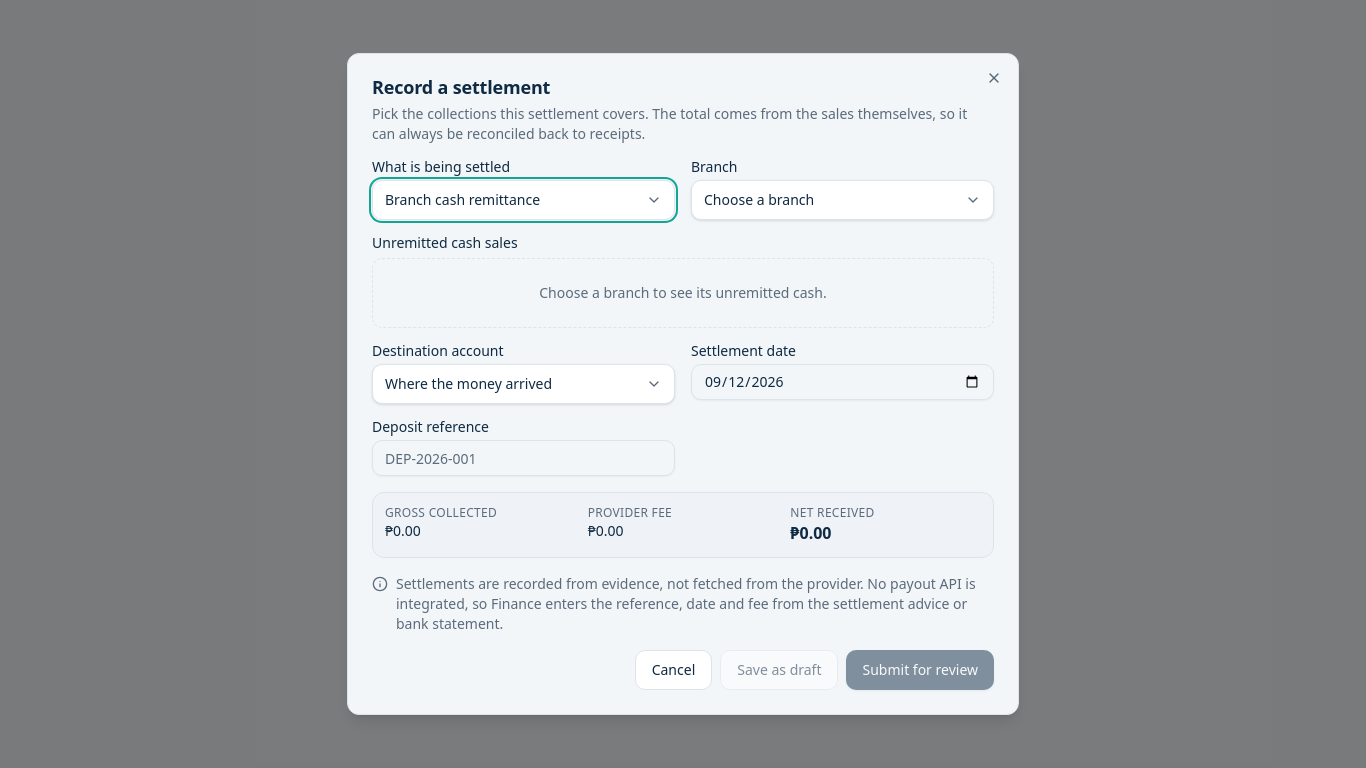
it: what the Branch control says in provider mode › shows nothing, and no way to select it, until a branch is chosen
The image size is (1366, 768).
Press ArrowDown in the dropdown named "What is being settled", box [372,180,675,220]
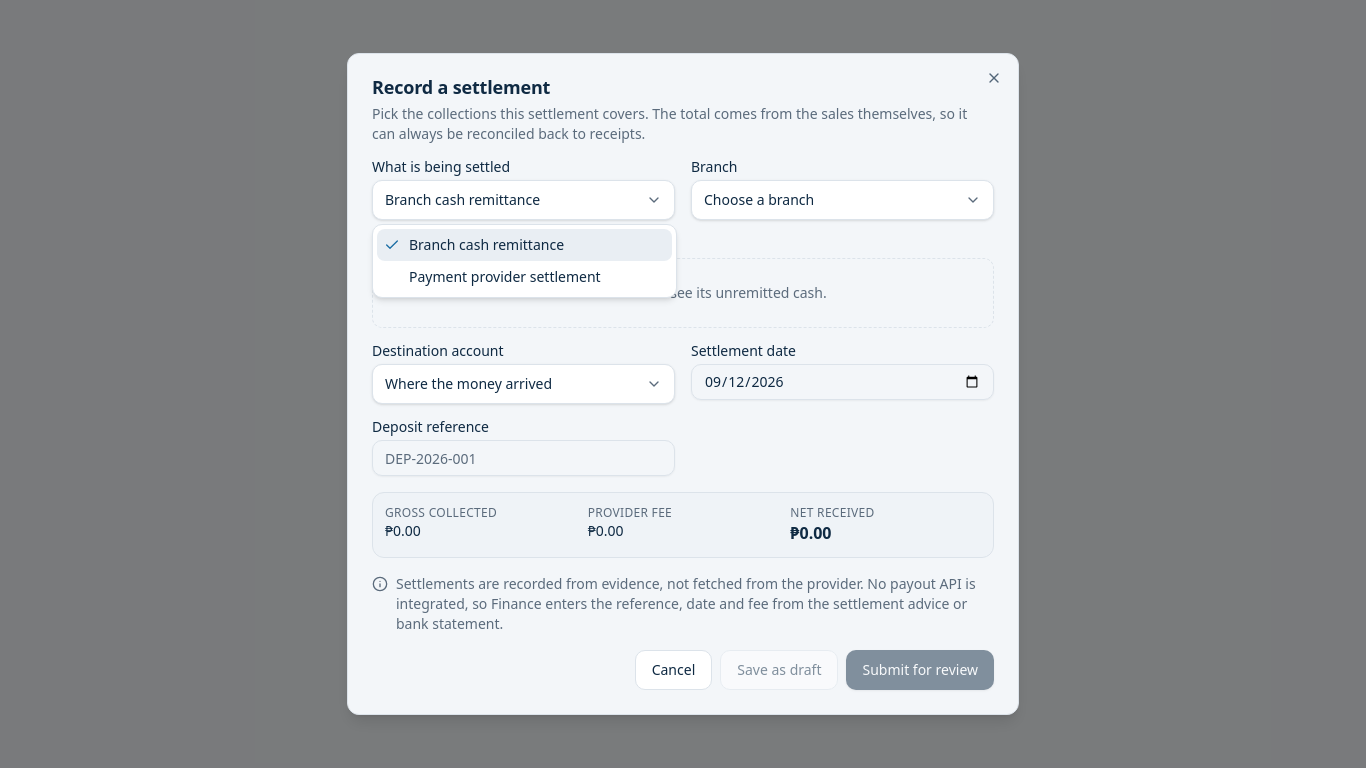
Click the option "Payment provider settlement". click: coordinates (505, 276)
box: [409,267,601,286]
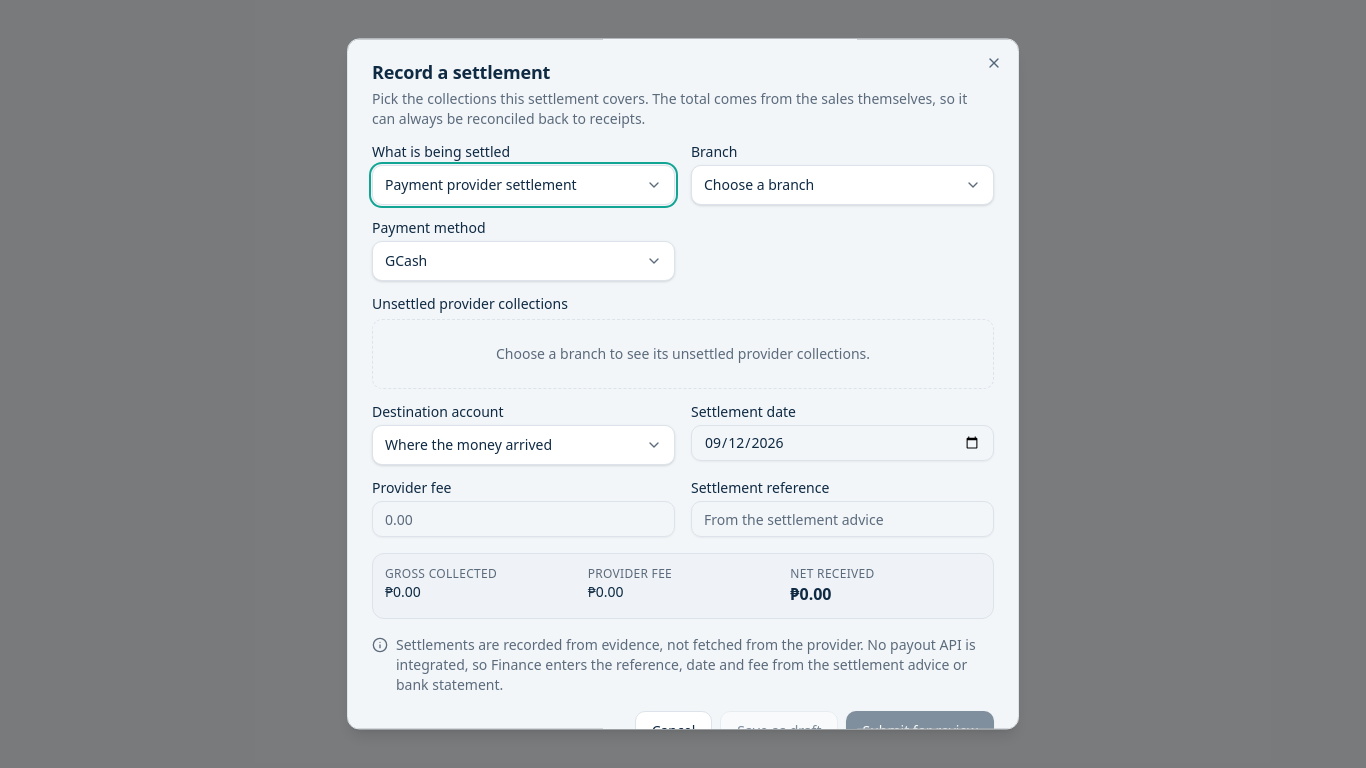
Expected: the text "Choose a branch to see its unsettled provider collections." is shown, [372,319,994,389]
